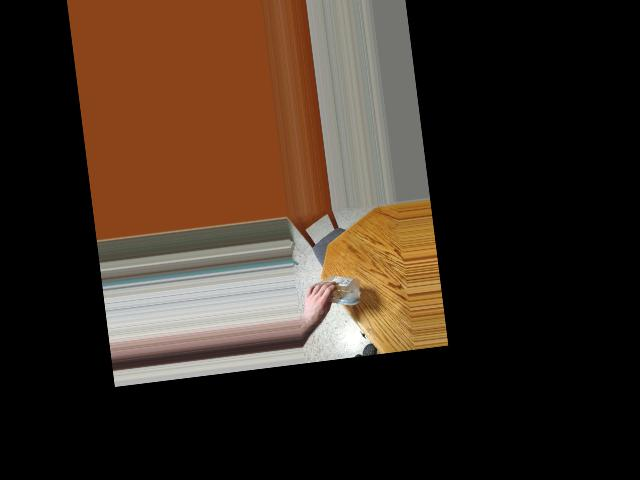cheese: (306, 272, 354, 314)
